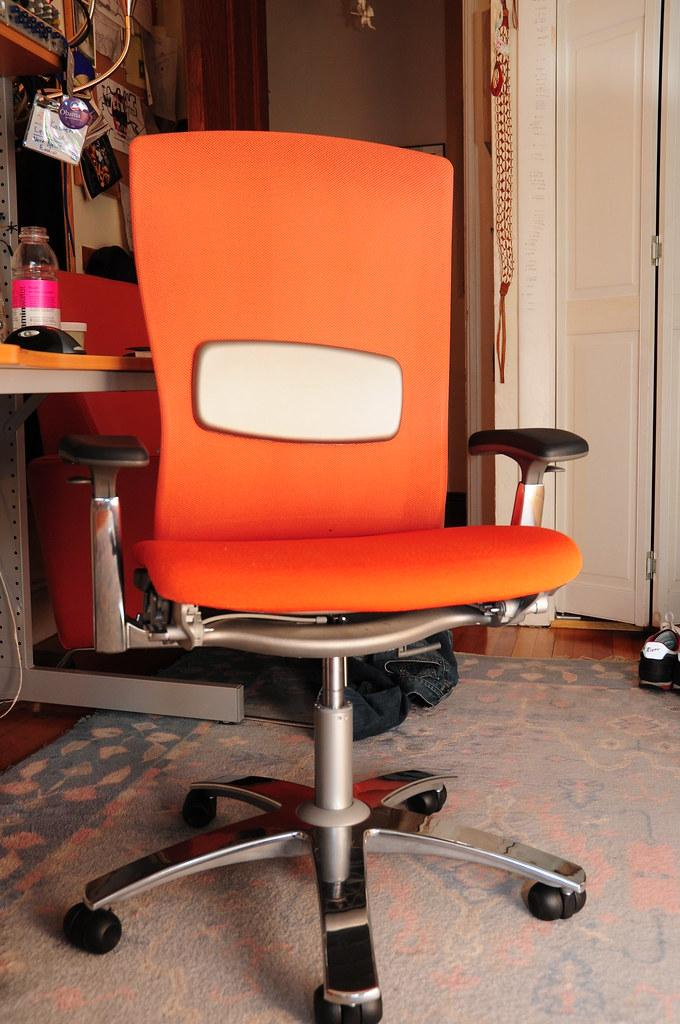chair: (44, 129, 590, 1023)
